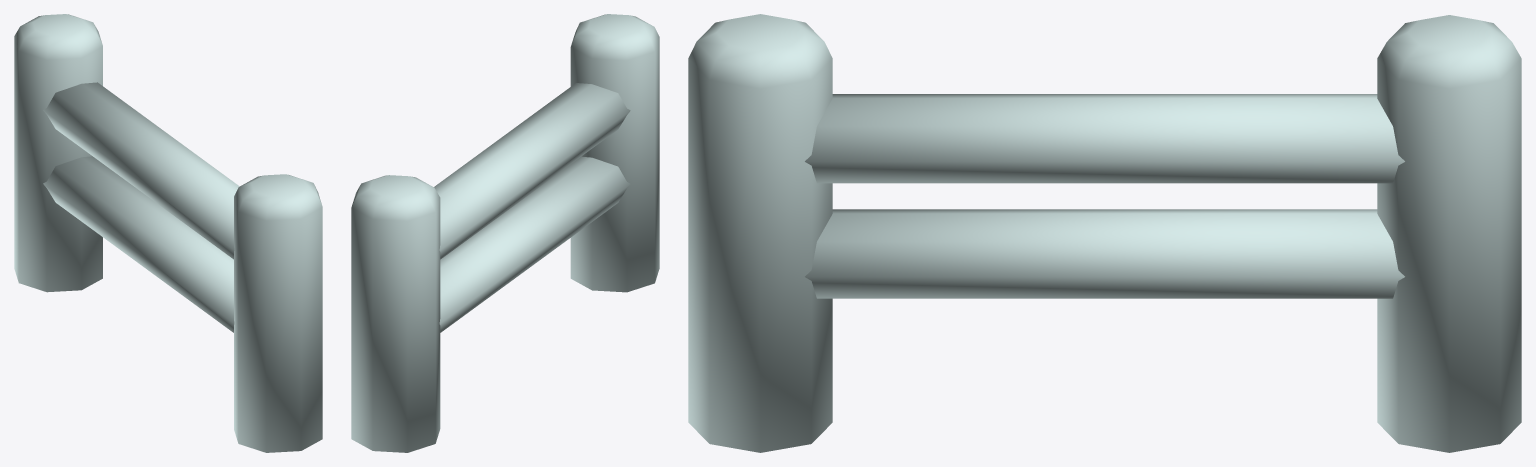
File: wooden_fence.fbx
3 renders of one model, left to right at view 1: azimuth 30°, elevation 25°; view 2: azimuth 150°, elevation 25°; view 3: azimuth 270°, elevation 25°, orthographic. The views are drawn at different scales.
Visible parts, largest first — view 1: fence; view 2: fence; view 3: fence.
Part boxes in pixels (x1,y1,x2,y2): fence: (14,14,322,452); fence: (351,14,659,452); fence: (688,14,1521,452).
Bounding box in the file's own units: 28.6 × 85.22 × 165.
